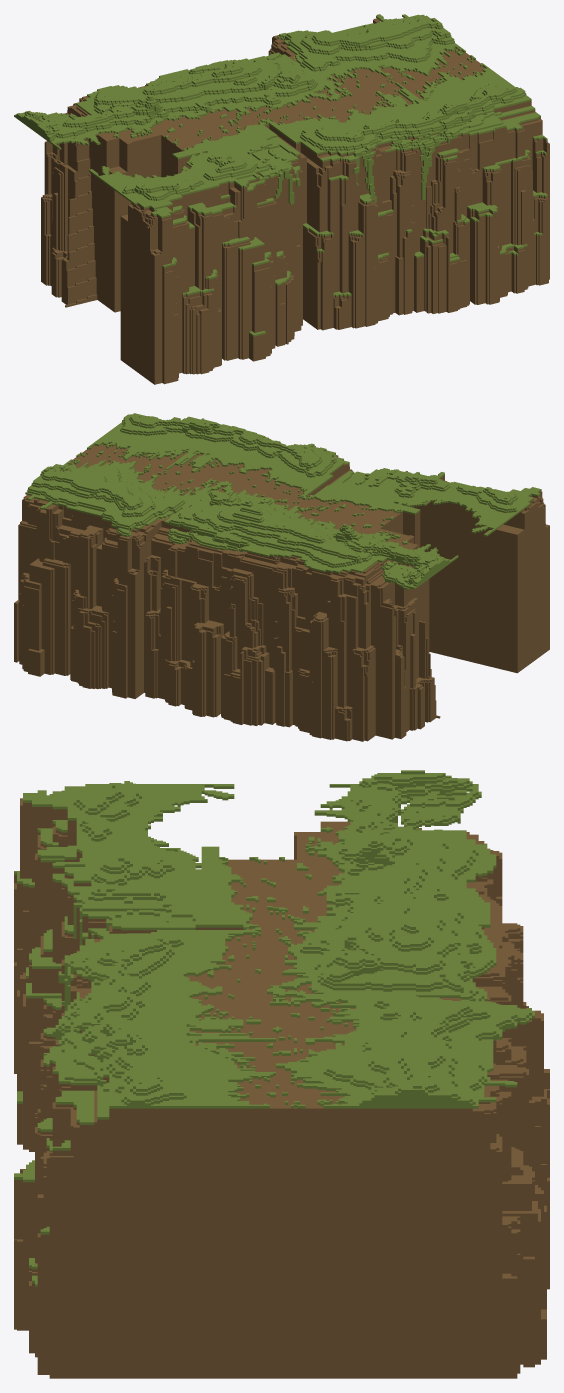
File: forest1.2-189.obj
3 renders of one model, top to bottom at view 1: azimuth 30°, elevation 25°; view 2: azimuth 150°, elevation 25°; view 3: azimuth 270°, elevation 25°, orthographic. The views are drawn at different scales.
Bounding box in the file's own units: 25.6 × 11.1 × 18.
Materials: 1 (1 with a texture image).
